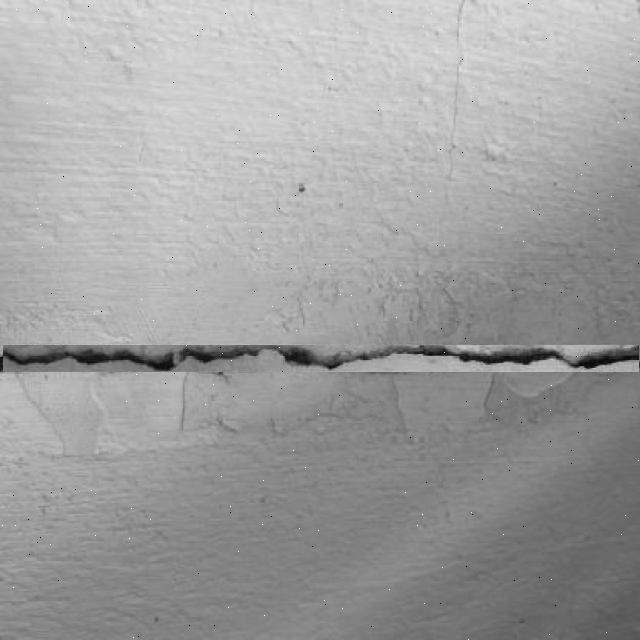crack: (1, 341, 639, 373)
